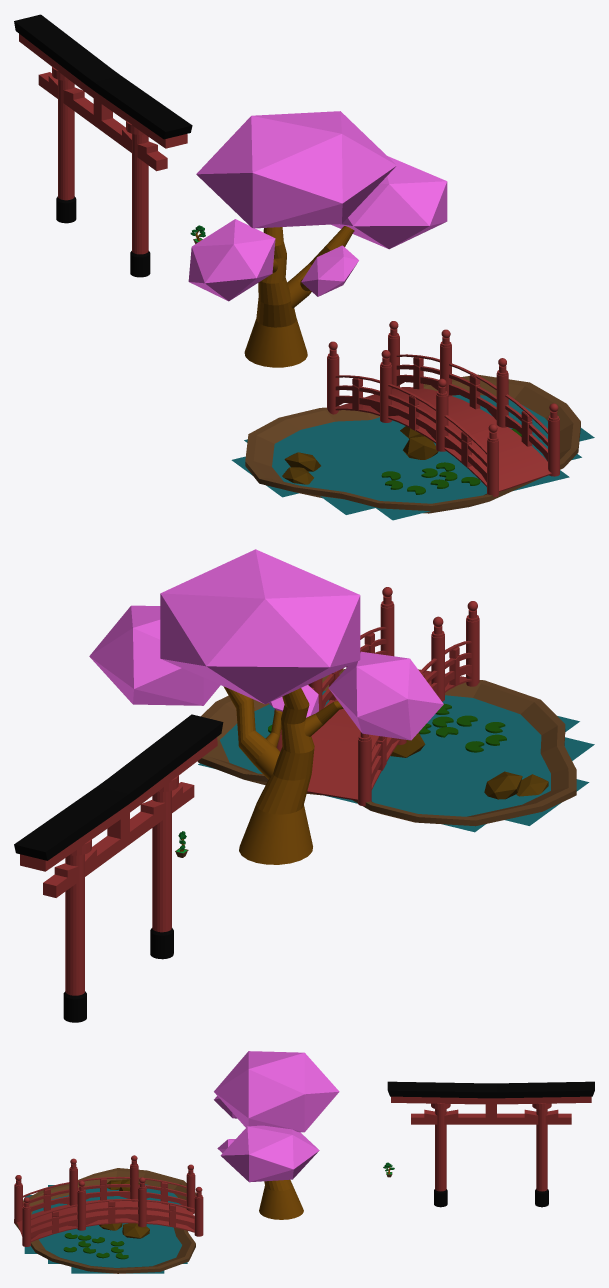
Rendered from TT_Main_Assets.fbx.
The picture shows the model from 3 angles, top to bottom: view 1: azimuth 30°, elevation 25°; view 2: azimuth 150°, elevation 25°; view 3: azimuth 270°, elevation 25°; orthographic projection. The views are drawn at different scales.
Parts seen in each view (by area): view 1: Bridge, Tree, pasted__Torii; view 2: Tree, Bridge, pasted__Torii; view 3: Bridge, Tree, pasted__Torii.
Part boxes in pixels (x1,y1,x2,y2): Bridge: (231, 321, 594, 520); Tree: (188, 111, 447, 367); pasted__Torii: (14, 14, 192, 277); Tree: (89, 549, 443, 864); Bridge: (197, 587, 594, 832); pasted__Torii: (14, 714, 223, 1022); Bridge: (14, 1155, 203, 1273); Tree: (214, 1051, 339, 1219); pasted__Torii: (387, 1081, 594, 1207).
Bounding box in the file's own units: 760 × 606 × 1818.
